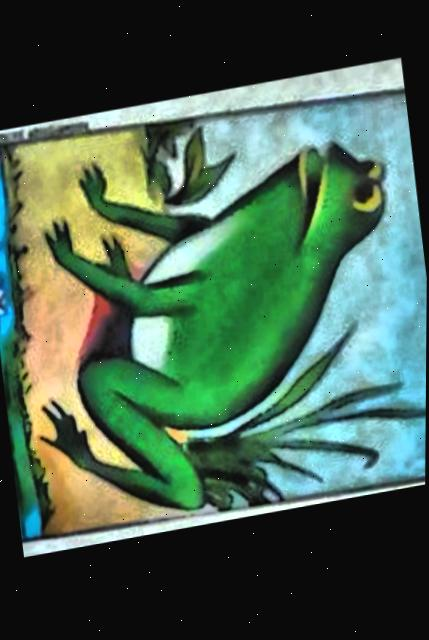La Rana: (0, 104, 427, 532)
